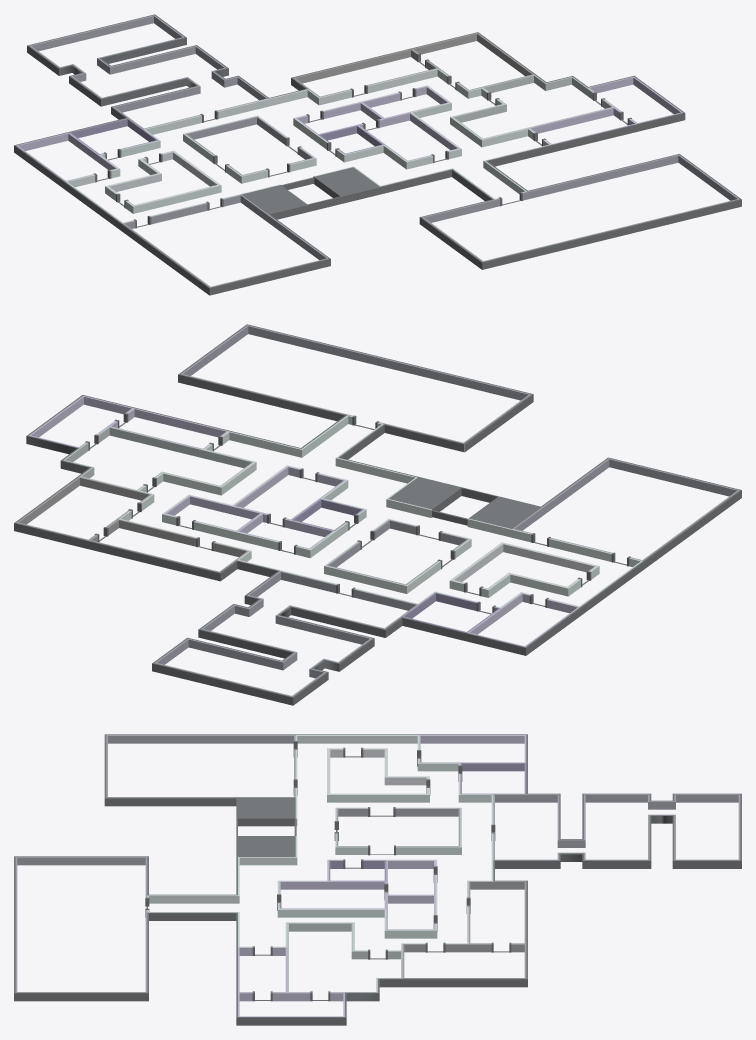
The model's file is Wall_v03.fbx.
3 renders of one model, top to bottom at view 1: azimuth 30°, elevation 25°; view 2: azimuth 150°, elevation 25°; view 3: azimuth 270°, elevation 25°, orthographic. The views are drawn at different scales.
Visible parts, largest first — view 1: inside_wall_B, Outer_wall, inside_wall_A, Door; view 2: inside_wall_B, Outer_wall, inside_wall_A, Door; view 3: inside_wall_B, Outer_wall, inside_wall_A, Door.
Boxes of the visible parts, x1,y1,x2,y2 form: inside_wall_B: (16, 15, 739, 287); Outer_wall: (14, 14, 741, 295); inside_wall_A: (66, 68, 550, 223); Door: (94, 53, 631, 228); inside_wall_B: (16, 325, 738, 696); Outer_wall: (14, 324, 741, 705); inside_wall_A: (119, 415, 642, 608); Door: (85, 413, 630, 612); inside_wall_B: (15, 735, 740, 1016); Outer_wall: (14, 734, 741, 1025); inside_wall_A: (147, 735, 493, 950); Door: (145, 741, 511, 1001).
Bounding box in the file's own units: 8140 × 112 × 8840.
